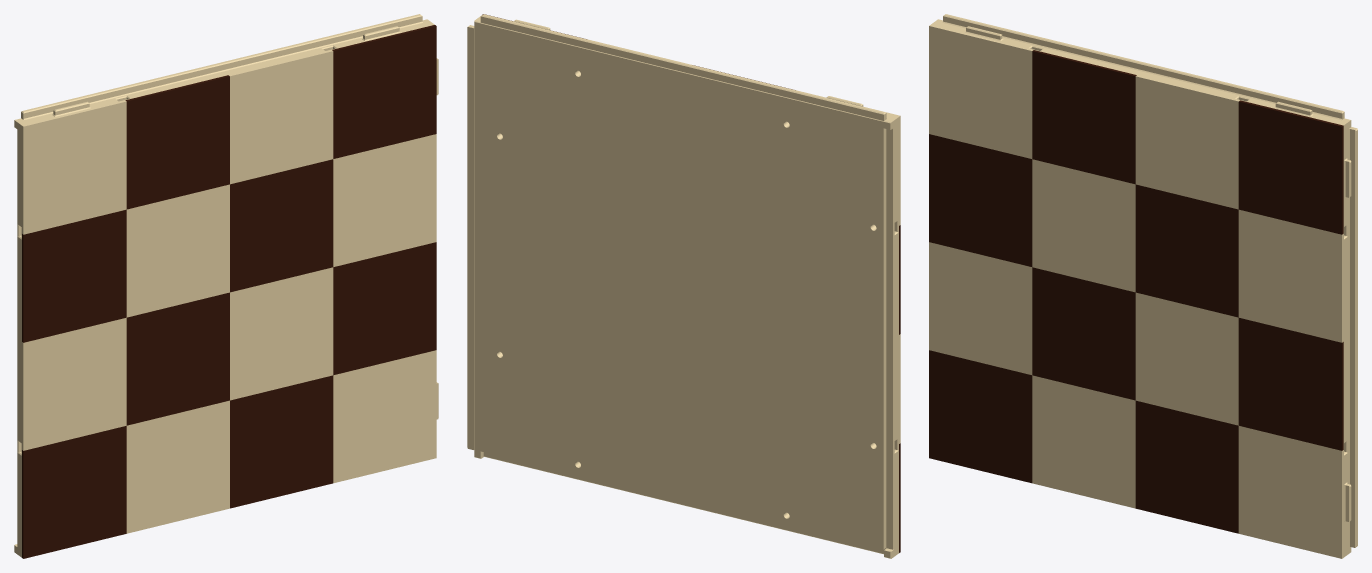
Rendered from .quarter_sw.step.glb.
3 renders of one model, left to right at view 1: azimuth 30°, elevation 25°; view 2: azimuth 150°, elevation 25°; view 3: azimuth 330°, elevation 25°, orthographic.
Parts seen in each view (by area): view 1: o1.1, o1.2.4, o1.2.8, o1.2.1, o1.2.2, o1.2.5, o1.2.7, o1.2.3, o1.2.6; view 2: o1.1; view 3: o1.1, o1.2.8, o1.2.7, o1.2.4, o1.2.1, o1.2.3, o1.2.6, o1.2.2, o1.2.5.
Boxes of the visible parts, box(x1,y1,x2,y2) form: o1.1: box(14, 14, 438, 557); o1.2.4: box(125, 75, 229, 209); o1.2.8: box(332, 25, 436, 158); o1.2.1: box(22, 426, 126, 558); o1.2.2: box(22, 209, 126, 342); o1.2.5: box(230, 375, 333, 508); o1.2.7: box(333, 242, 436, 375); o1.2.3: box(126, 292, 229, 425); o1.2.6: box(230, 159, 333, 292); o1.1: box(467, 14, 900, 558); o1.1: box(929, 14, 1357, 558); o1.2.8: box(1238, 100, 1343, 234); o1.2.7: box(1238, 318, 1343, 450); o1.2.4: box(1032, 50, 1136, 184); o1.2.1: box(929, 350, 1032, 483); o1.2.3: box(1032, 267, 1135, 400); o1.2.6: box(1135, 184, 1238, 317); o1.2.2: box(929, 134, 1032, 266); o1.2.5: box(1135, 400, 1238, 533).
Bounding box in the file's own units: 0.244 × 0.244 × 0.0096.
